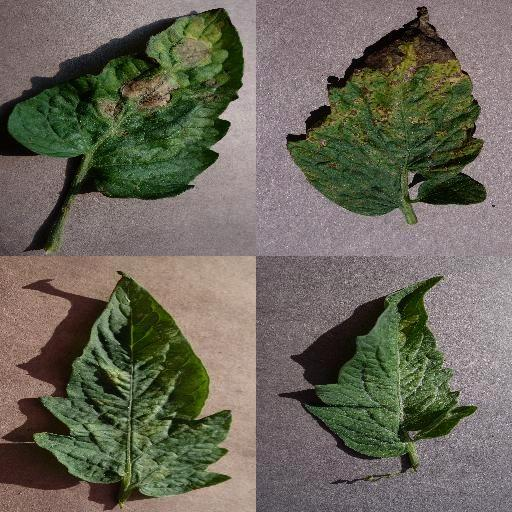Late Blight: (7, 5, 245, 199)
Septoria: (286, 8, 488, 216)
Spider Mites: (34, 270, 236, 498), (308, 274, 478, 460)
